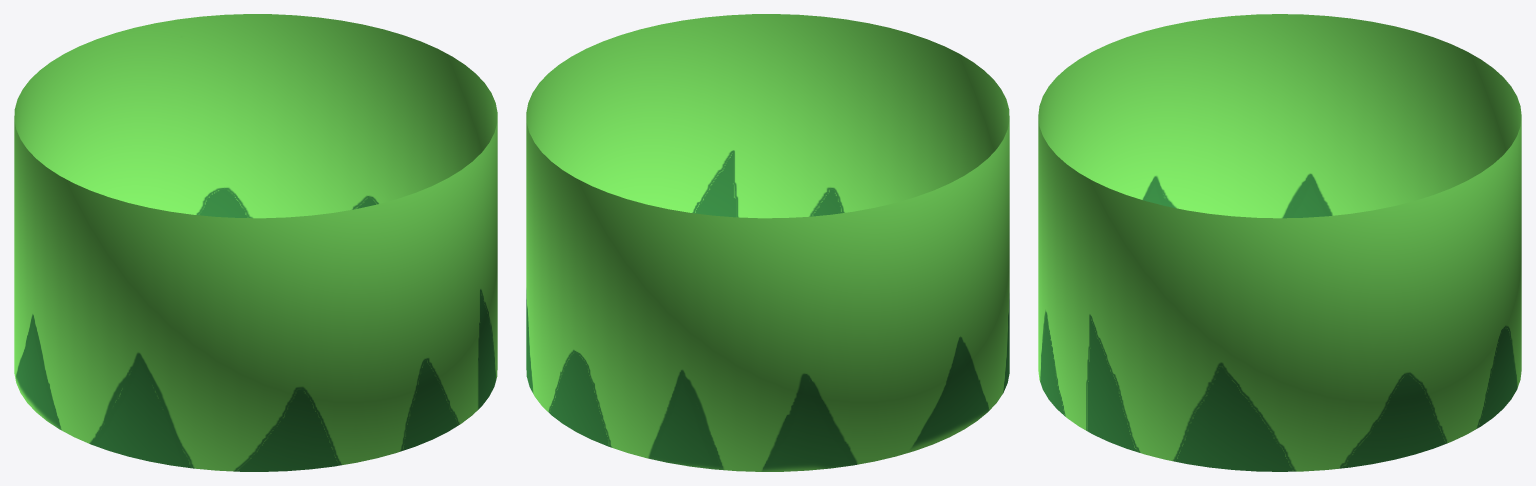
File: grass.glb
3 views of the same model, side by side, from view 1: azimuth 30°, elevation 25°; view 2: azimuth 150°, elevation 25°; view 3: azimuth 270°, elevation 25° (orthographic).
Parts seen in each view (by area): view 1: grass; view 2: grass; view 3: grass.
Boxes of the visible parts, bbox=[...] form: grass: bbox=[14, 14, 497, 471]; grass: bbox=[526, 14, 1009, 471]; grass: bbox=[1038, 14, 1521, 471].
Bounding box in the file's own units: 18.25 × 10.57 × 18.25.
Materials: 1 (1 with a texture image).
